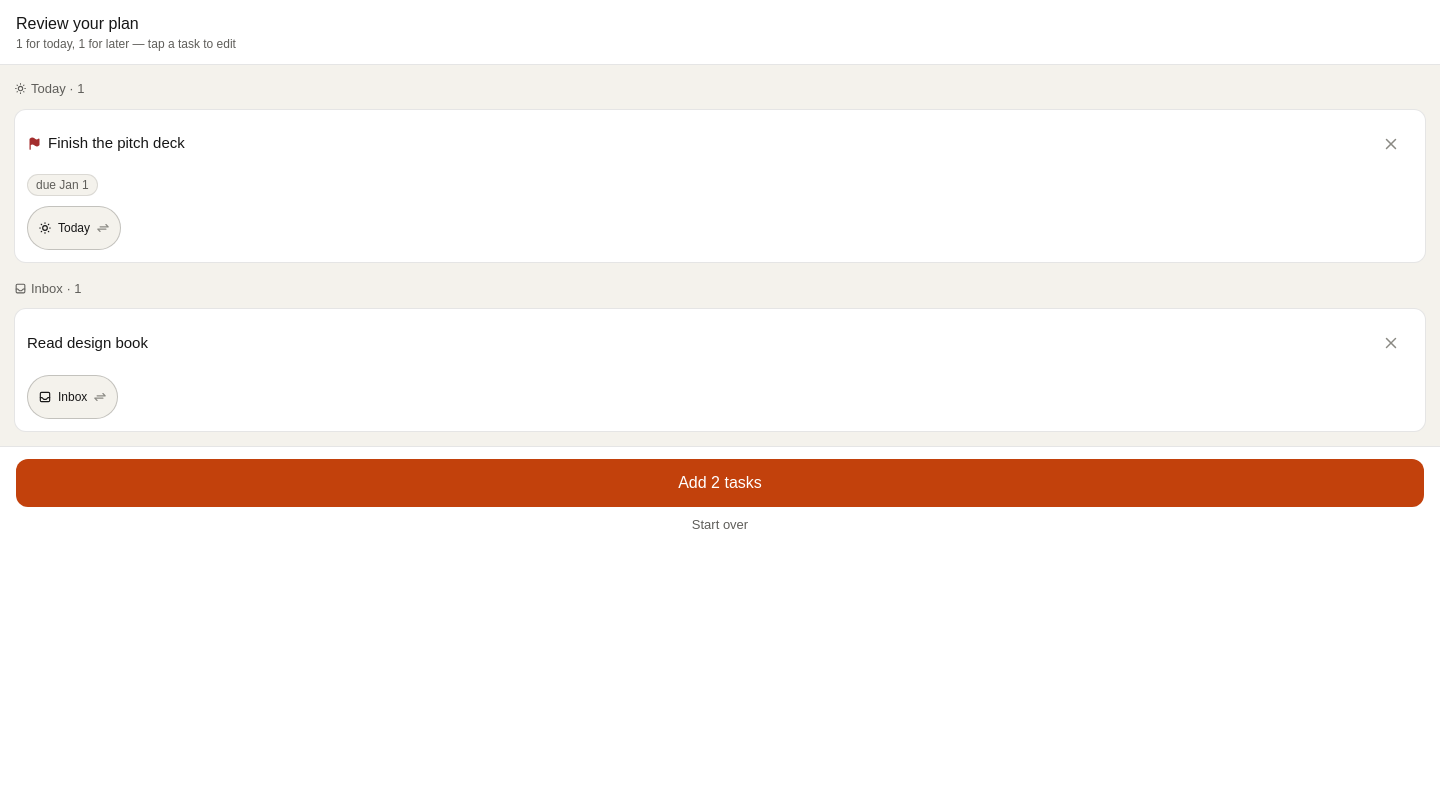
Scenario: ReviewScreen › keeps the task when the removal is canceled
Step 1. Click the button named "remove finish the pitch deck" → click(1391, 144), box [1369,122,1413,166]
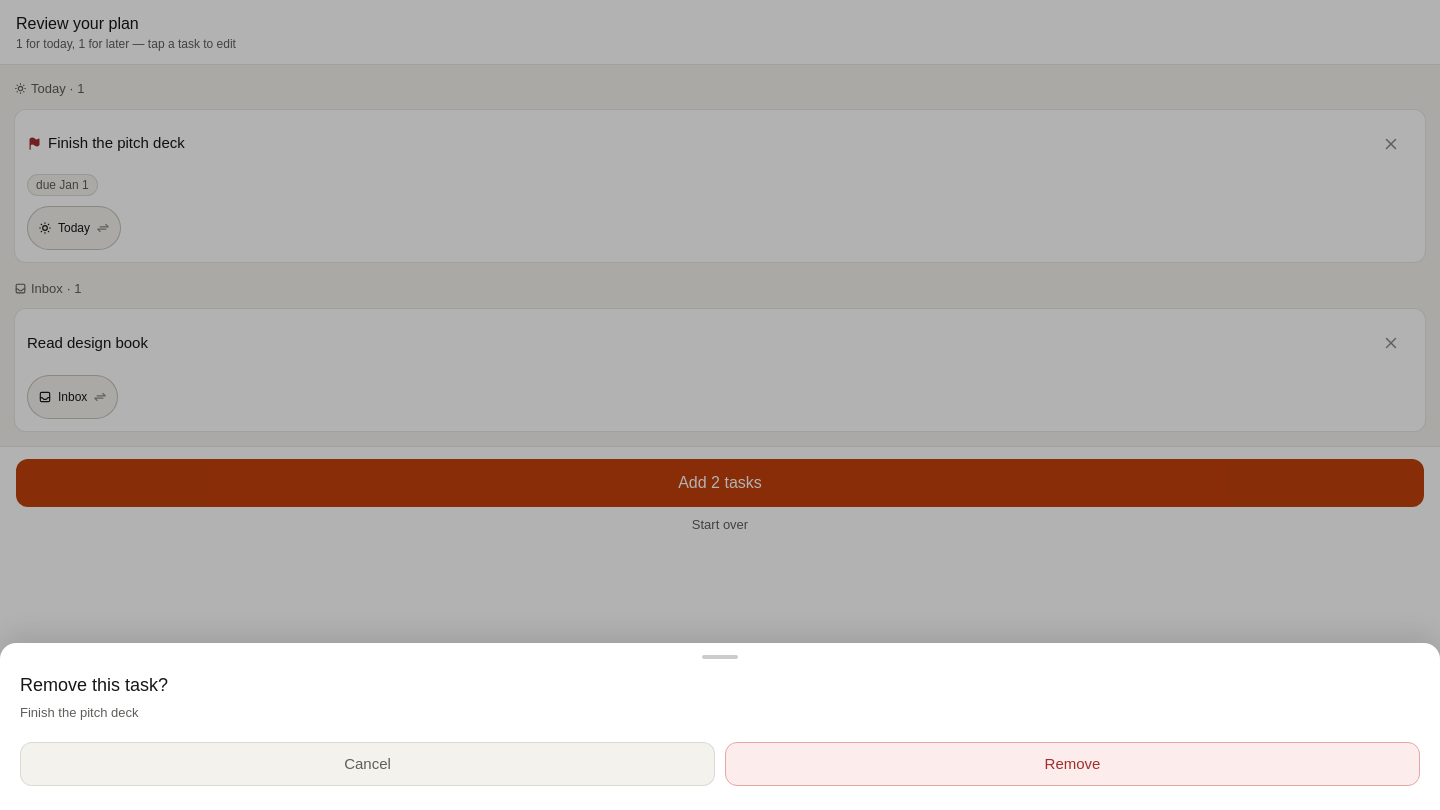
Step 2. Click the button "Cancel" → click(368, 764), box [20,742,715,786]
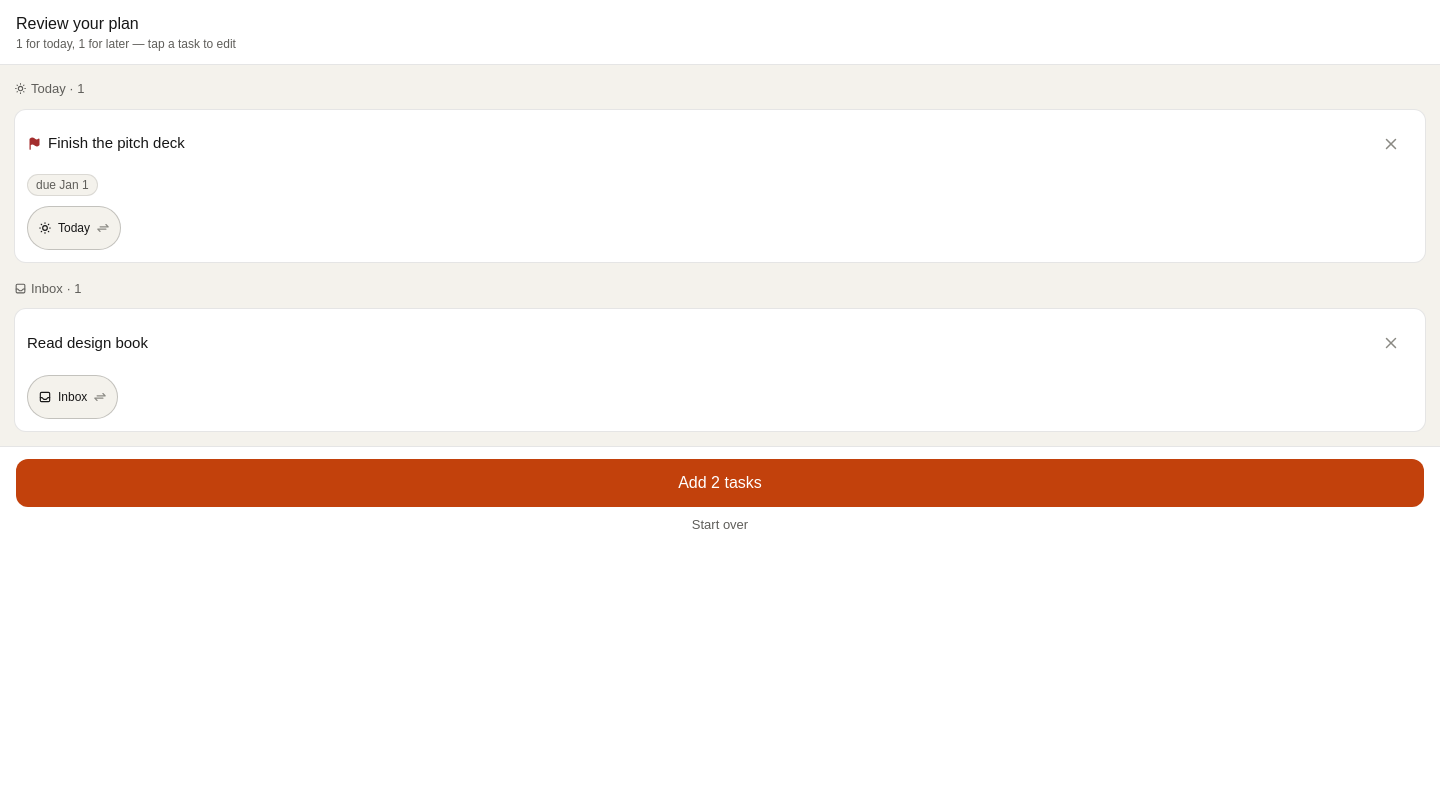
expect the button "Add 2 tasks" is shown: met, box [16,459,1424,507]
expect the dialog is gone: met
